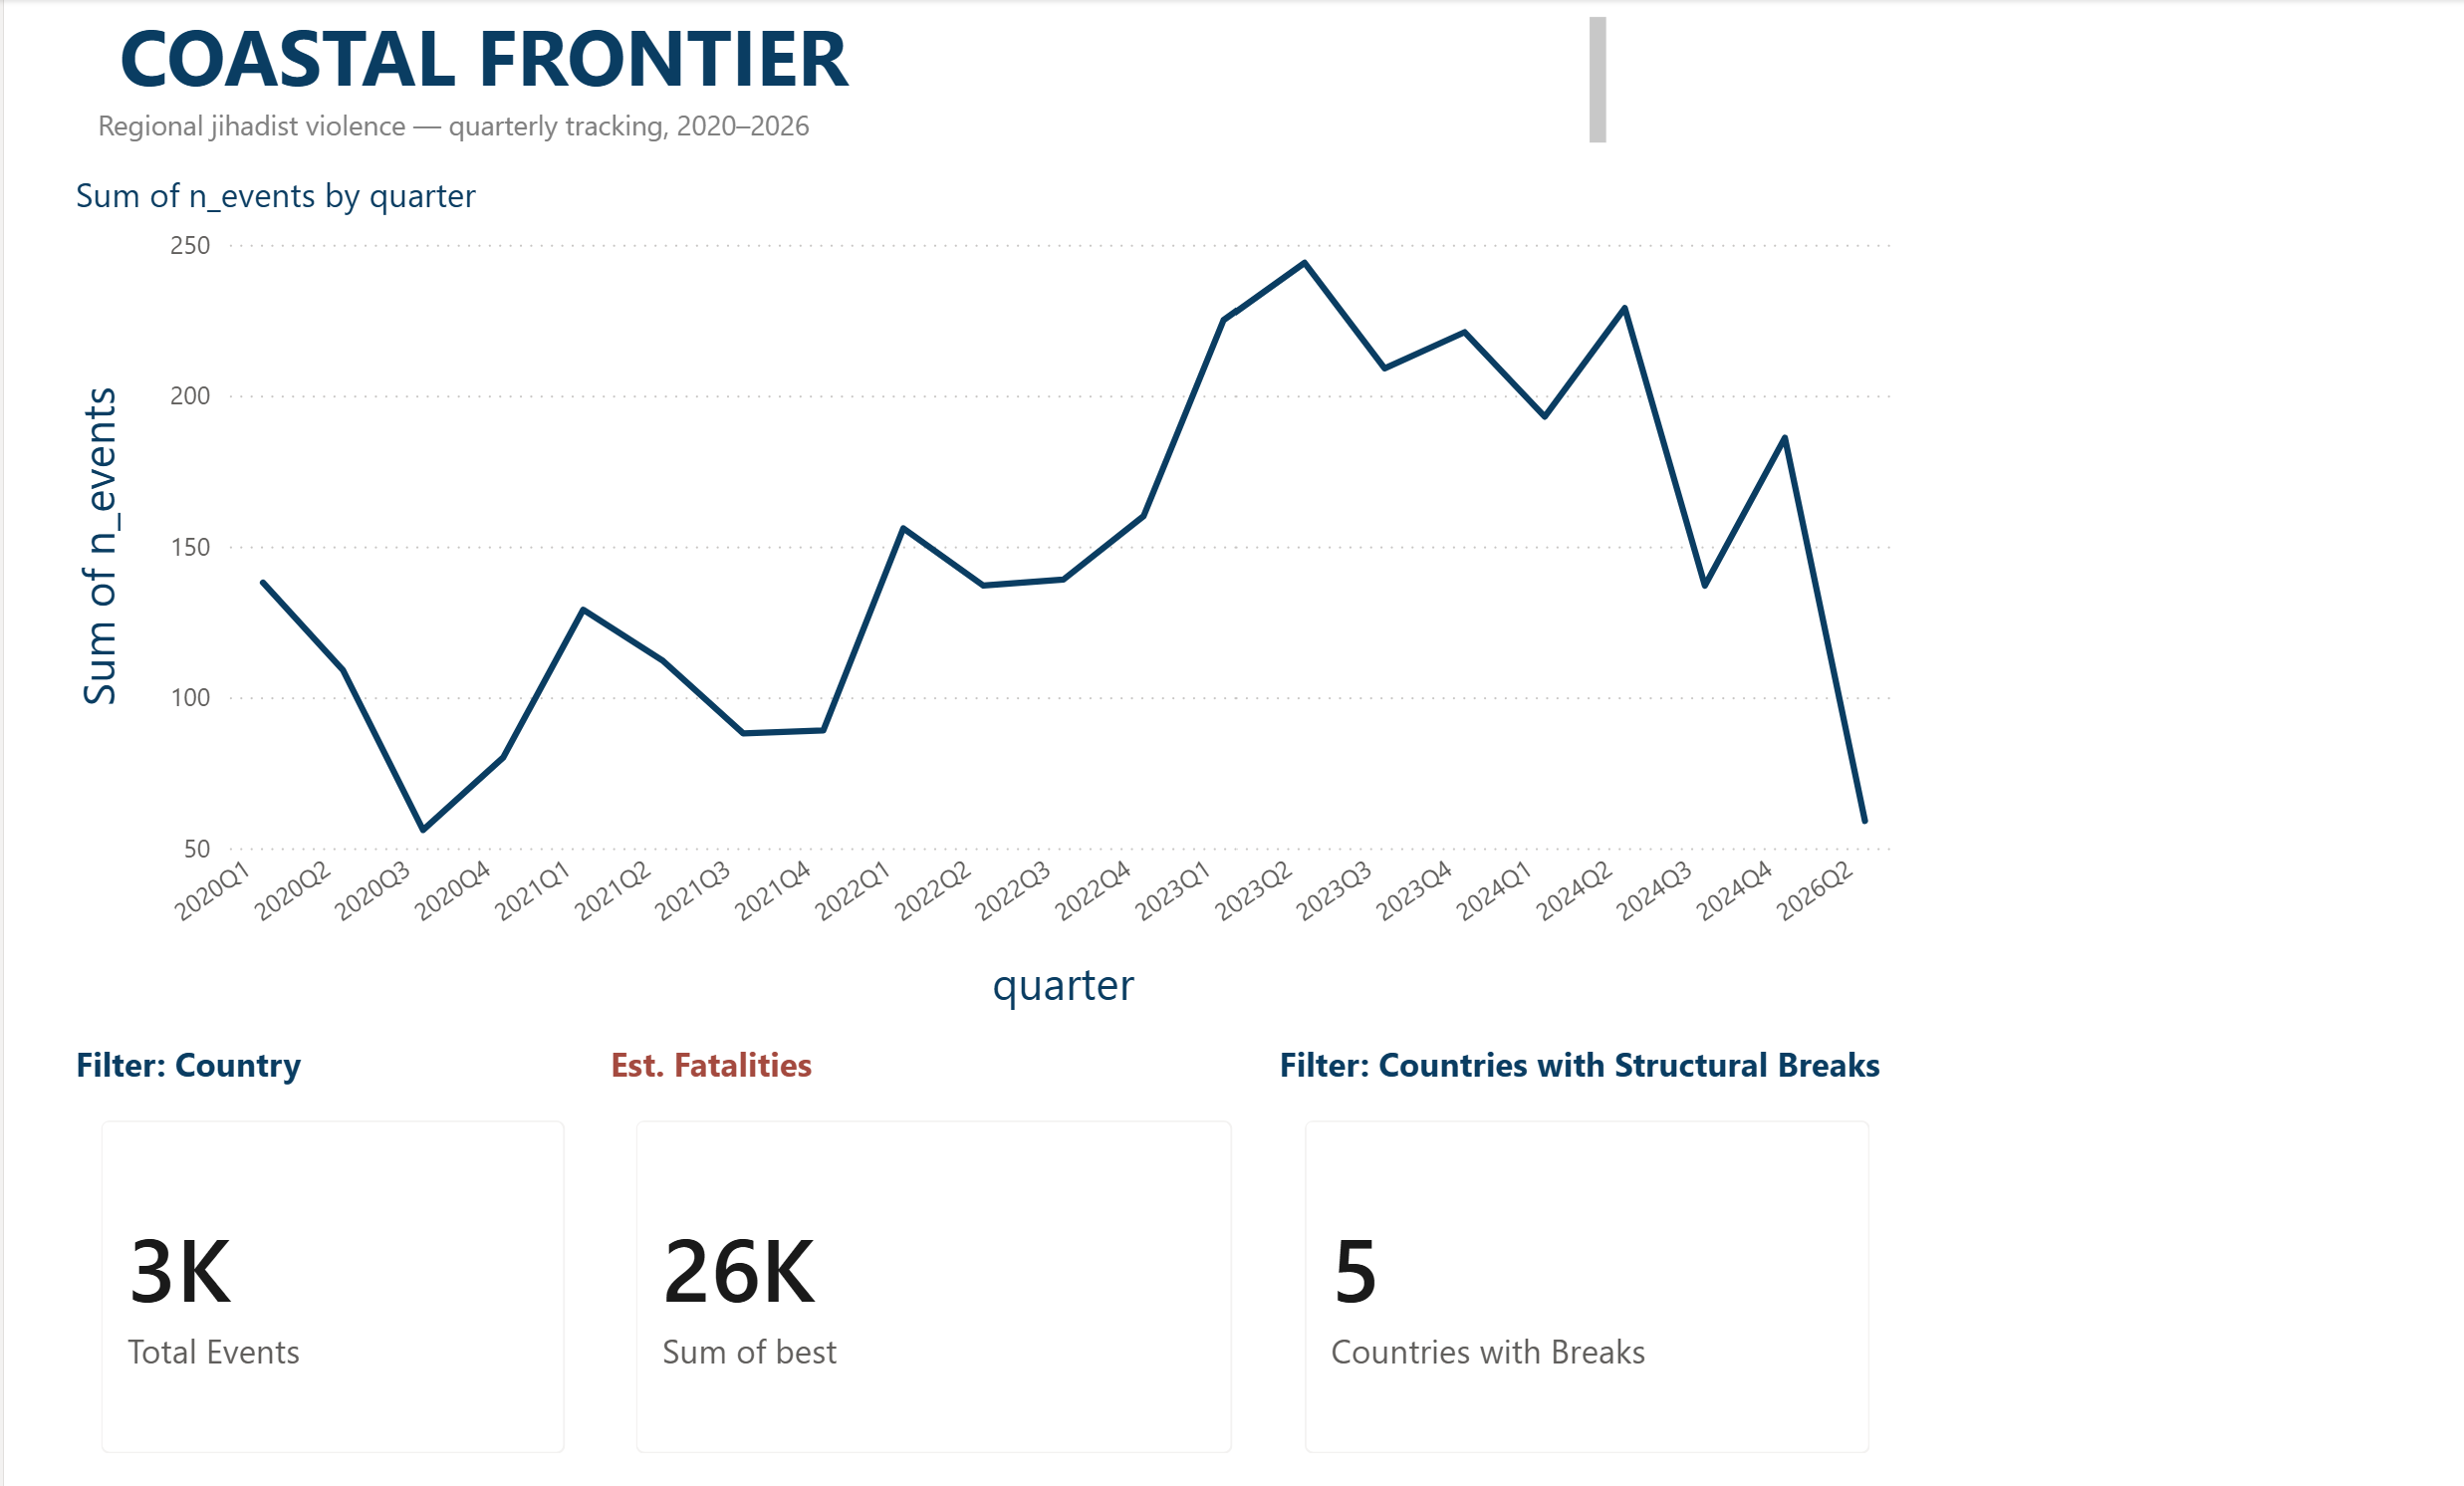

What the dashboard file says about the page in this screenshot:
{"tool":"powerbi","page":{"name":"Regional Overview","canvas":[1280,720],"ordinal":0},"visuals":[{"type":"lineChart","fields":{"Category":["regional_summary.quarter"],"Y":["Sum(regional_summary.n_events)"]},"box":[29.7,82.8,888.6,410.3],"z":0},{"type":"textbox","box":[40.3,0,737.9,74.3],"z":1},{"type":"cardVisual","title":"Est. Fatalities","fields":{"Data":["Sum(events.best)"]},"box":[287.9,503,322.6,217.2],"z":3},{"type":"cardVisual","title":"Filter: Country","fields":{"Data":["events.Total Events"]},"box":[29.7,503,258.2,217.2],"z":4},{"type":"cardVisual","title":"Filter: Countries with Structural Breaks","fields":{"Data":["change_points.Countries with Breaks"]},"box":[610.5,503,307.7,217.2],"z":5}]}

Visuals, with their boxes on the page's 1280x720 design canvas (x1, y1, x2, y2). These are canvas units, not pixel positions in the 2464x1486 screenshot, which may show the page scaled, cropped or inside an application window:
lineChart - regional_summary.quarter x Sum(regional_summary.n_events): (30,83,918,493)
textbox: (40,0,778,74)
"Est. Fatalities" cardVisual: (288,503,610,720)
"Filter: Country" cardVisual: (30,503,288,720)
"Filter: Countries with Structural Breaks" cardVisual: (610,503,918,720)
